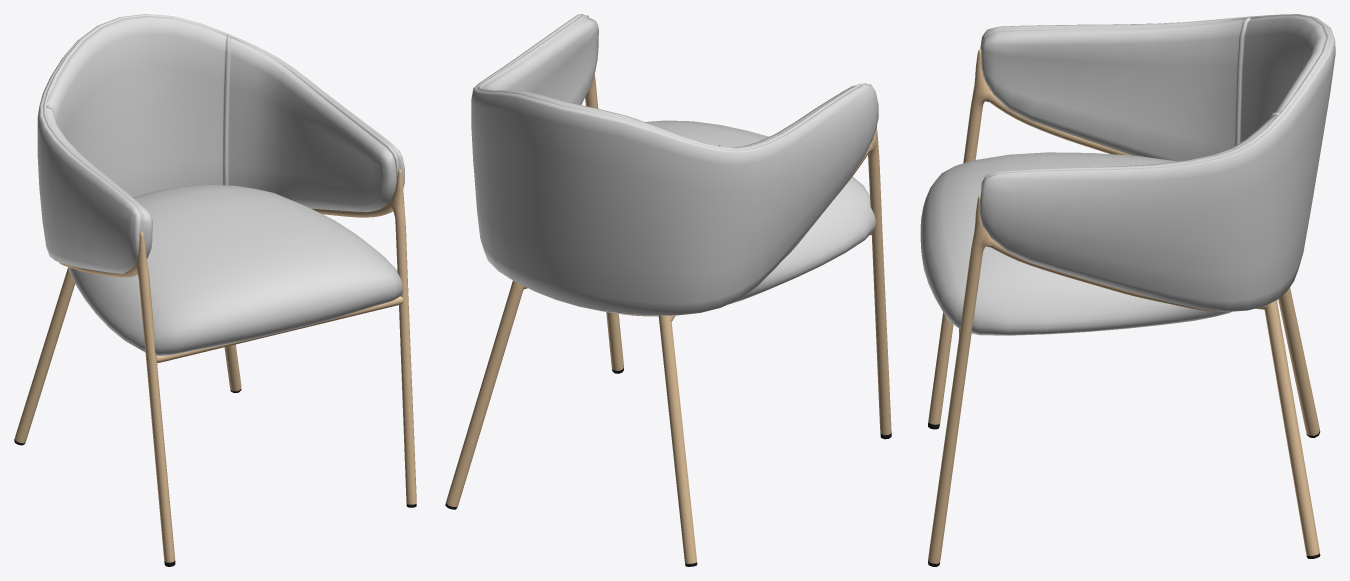
Rendered from uploads_files_6935985_Celosia+Dining+Chair.fbx.
The picture shows the model from 3 angles, left to right: view 1: azimuth 30°, elevation 25°; view 2: azimuth 150°, elevation 25°; view 3: azimuth 270°, elevation 25°; orthographic projection. The views are drawn at different scales.
Visible parts, largest first — view 1: Chair; view 2: Chair; view 3: Chair.
Part boxes in pixels (box(x1,y1,x2,y2)): Chair: box(14, 14, 416, 566); Chair: box(445, 14, 891, 566); Chair: box(920, 14, 1335, 566).
Size of the model in its own units: 58.66 by 65.64 by 80.42.
